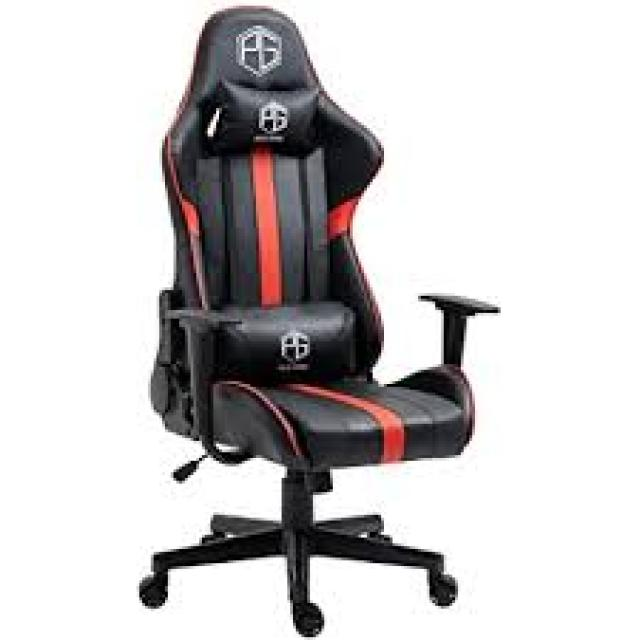chair: (67, 0, 538, 640)
